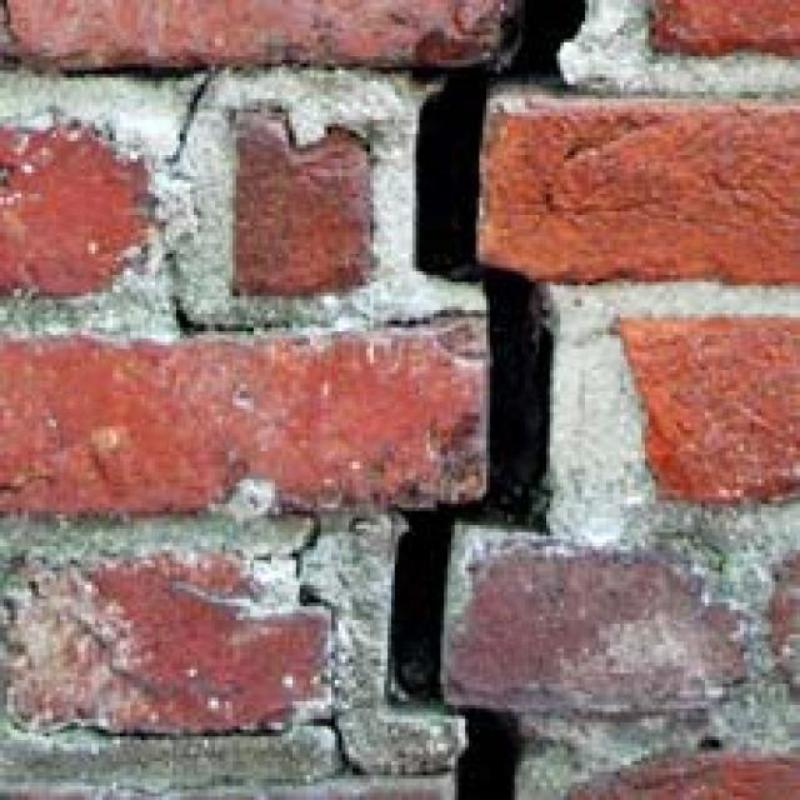pothole: (392, 0, 585, 701), (456, 709, 520, 799), (170, 70, 217, 163), (173, 295, 277, 335), (308, 716, 364, 774), (292, 514, 326, 577), (298, 583, 320, 605)
